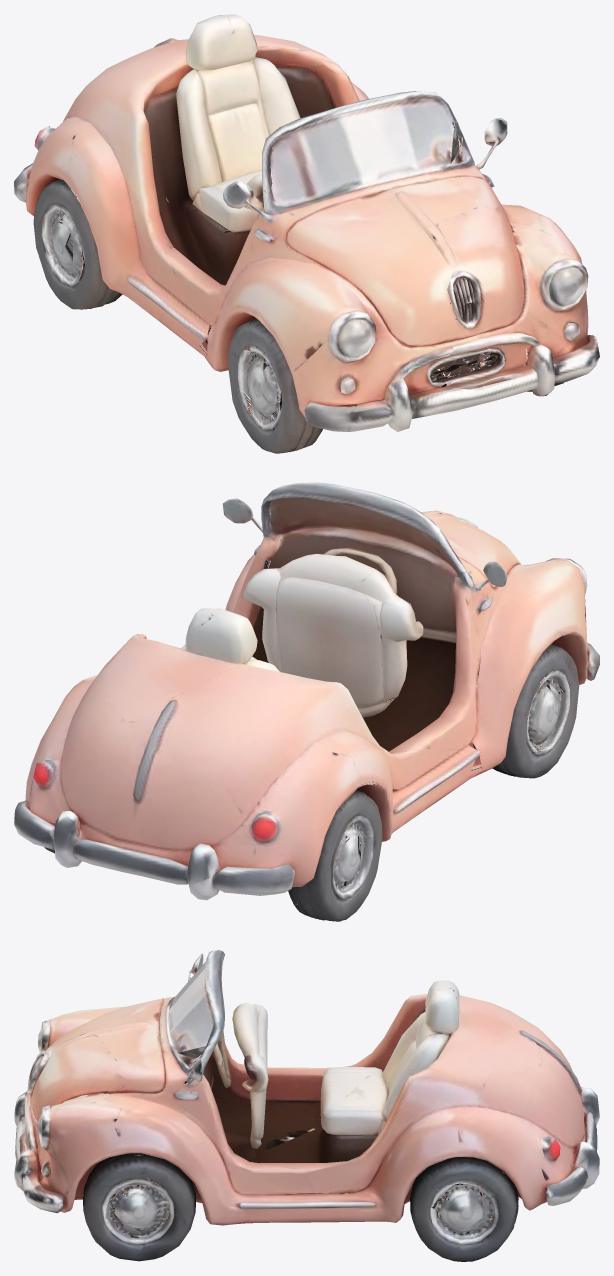
File: mochi-mobile.glb
The picture shows the model from 3 angles, top to bottom: view 1: azimuth 30°, elevation 25°; view 2: azimuth 150°, elevation 25°; view 3: azimuth 270°, elevation 25°; orthographic projection. The views are drawn at different scales.
Visible parts, largest first — view 1: model; view 2: model; view 3: model.
Part boxes in pixels (bbox=[...]): model: bbox=[14, 14, 599, 453]; model: bbox=[14, 482, 599, 921]; model: bbox=[14, 950, 599, 1261].
Bounding box in the file's own units: 0.9434 × 0.8387 × 1.9.
Materials: 1 (1 with a texture image).
